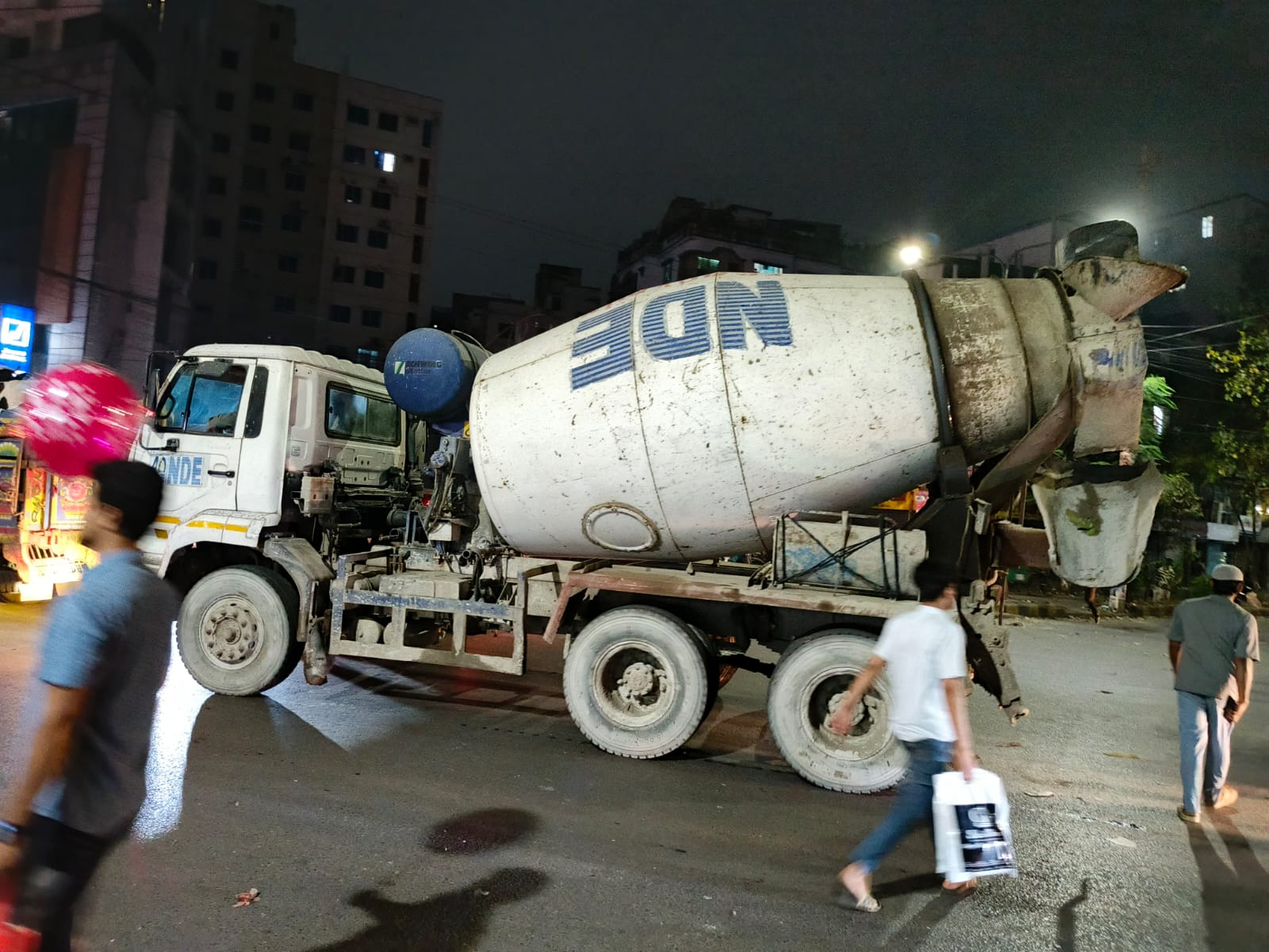Truck: (111, 218, 1169, 800)
